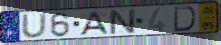4: (147, 6, 167, 33)
6: (49, 11, 71, 38)
A: (78, 10, 110, 36)
D: (173, 5, 197, 32)
N: (107, 8, 137, 36)
U: (21, 12, 48, 39)
